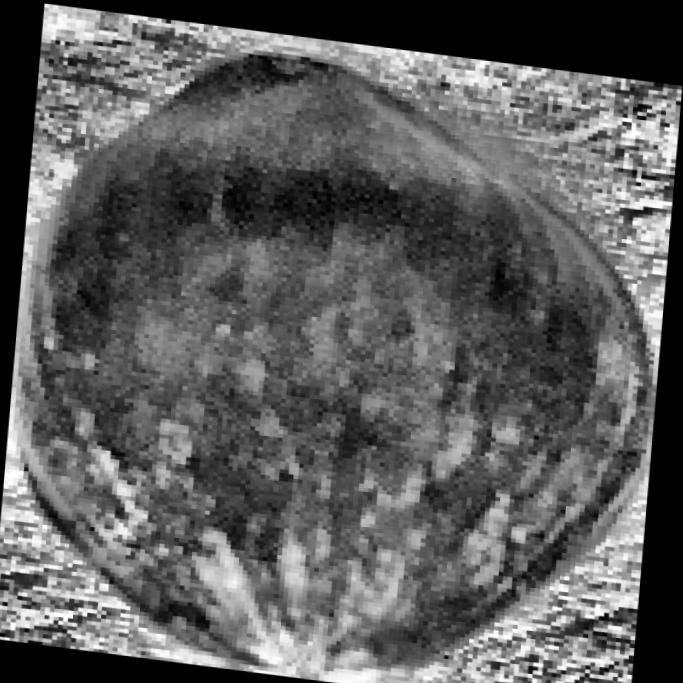damagedHazelnut: (0, 4, 683, 683)
